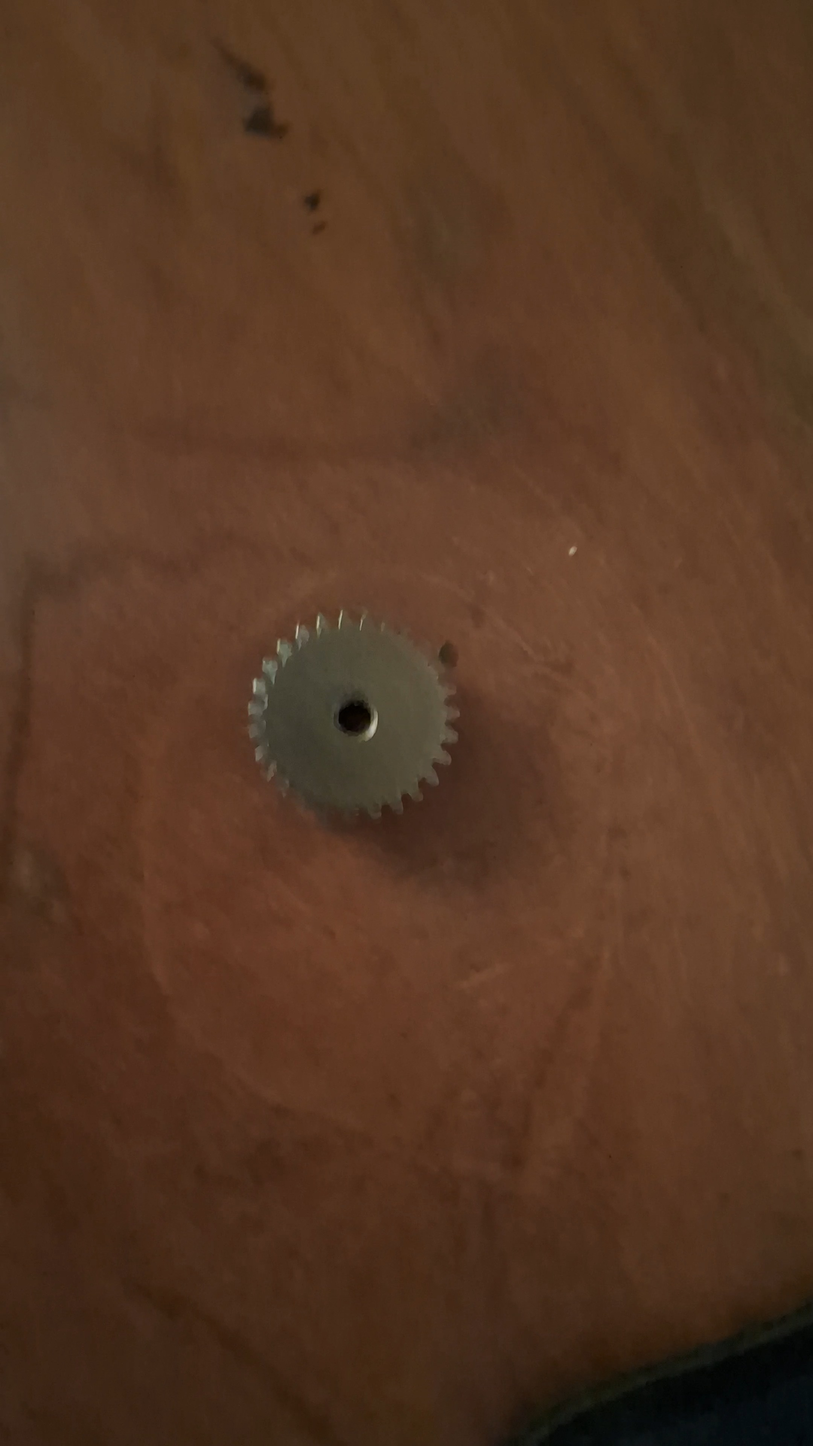spur gear: (249, 614, 457, 817)
